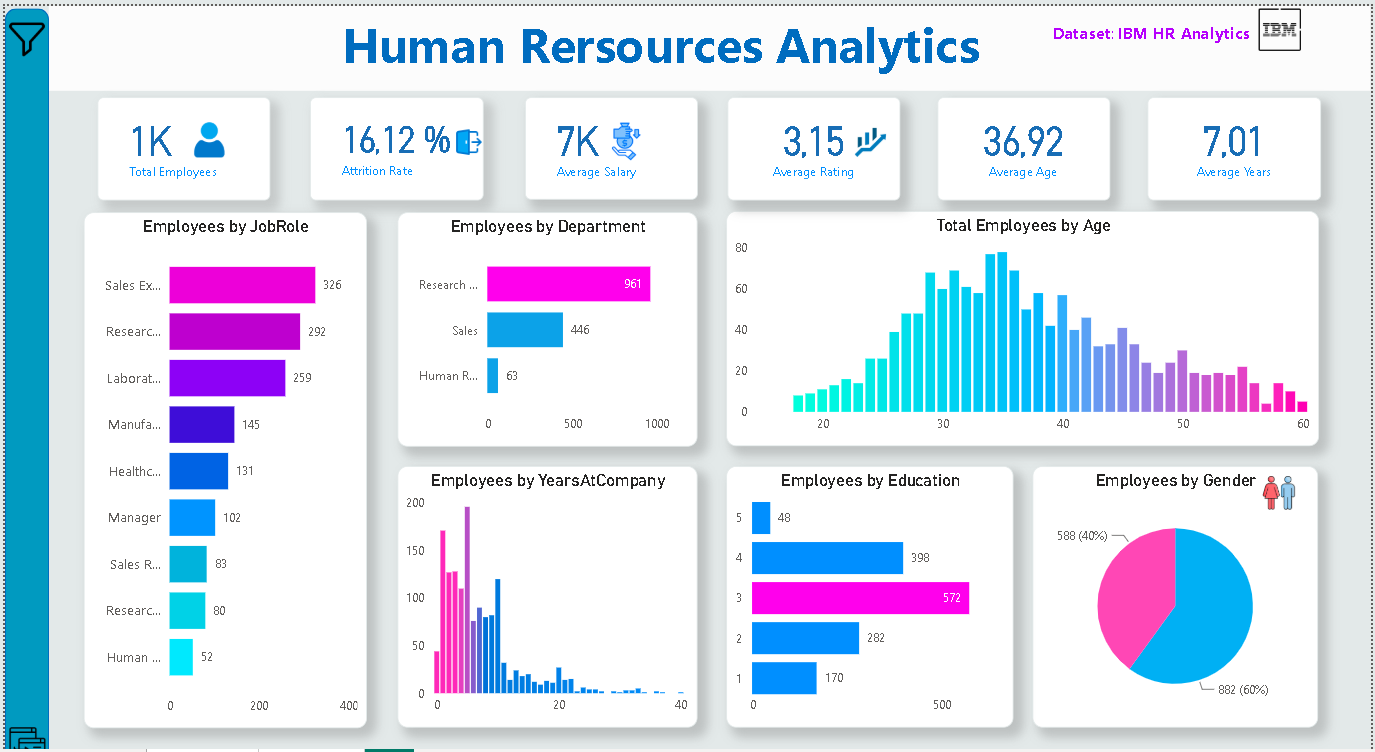

The dashboard page shown, as its layout file describes it:
{"tool":"powerbi","page":{"name":"Home","canvas":[1366,768],"ordinal":0},"visuals":[{"type":"textbox","box":[44,0,1321.8,84.8],"z":0},{"type":"shape","box":[0,2.8,44,764.8],"z":0,"group":"g1"},{"type":"cardVisual","fields":{"Data":["_Meaasures.Total Employees"]},"box":[92.7,91.1,172.4,102.9],"z":1000},{"type":"cardVisual","fields":{"Data":["_Meaasures.Attrition Rate"]},"box":[305.4,91.1,173.7,102.9],"z":2000},{"type":"cardVisual","fields":{"Data":["_Meaasures.Average Monthly Income"]},"box":[519.5,90.9,172.7,102.6],"z":3000},{"type":"cardVisual","fields":{"Data":["_Meaasures.Average Age"]},"box":[932.4,91.1,172.4,102.9],"z":4000},{"type":"cardVisual","fields":{"Data":["_Meaasures.Average Years at Company"]},"box":[1142,91.1,173.7,102.9],"z":5000},{"type":"clusteredBarChart","title":"Employees by Departement","fields":{"Category":["HR.Department"],"Y":["_Meaasures.Total Employees"]},"box":[392.9,205.7,300,234.3],"z":6000},{"type":"pieChart","title":"Gender Distrbution","fields":{"Category":["HR.Gender"],"Y":["_Meaasures.Total Employees"]},"box":[1027.1,460,285.7,261.4],"z":7000},{"type":"clusteredBarChart","title":"Employees by Education Level","fields":{"Y":["_Meaasures.Total Employees"],"Category":["HR.Education"]},"box":[721.4,460,287.1,261.4],"z":8000},{"type":"clusteredBarChart","title":"Employees by JobRole","fields":{"Category":["HR.JobRole"],"Y":["_Meaasures.Total Employees"]},"box":[78.6,205.7,282.9,515.7],"z":9000},{"type":"clusteredColumnChart","title":"Years of Service Distribution","fields":{"Y":["_Meaasures.Total Employees"],"Category":["HR.YearsAtCompany"]},"box":[392.9,460,300,261.4],"z":10000},{"type":"clusteredColumnChart","title":"Workforce Distribution by Age","fields":{"Y":["_Meaasures.Total Employees"],"Category":["HR.Age"]},"box":[720.9,204.9,592.5,235.1],"z":11000},{"type":"group","id":"g1","title":"slicer off","box":[0,2.8,44,764.8],"z":13000},{"type":"cardVisual","fields":{"Data":["_Meaasures.Average Performance Rating"]},"box":[722.8,91.1,172.4,102.9],"z":14000},{"type":"image","box":[179,116,51,35],"z":15000},{"type":"image","box":[1253.2,470.1,40.3,33.8],"z":16000},{"type":"image","box":[437.7,122.1,53.2,27.3],"z":17000},{"type":"image","box":[602.3,115,37.7,40.9],"z":18000},{"type":"image","box":[843.6,118.2,42.7,35],"z":19000},{"type":"image","box":[1,721,43,36],"z":20000},{"type":"textbox","box":[1042.5,10,323.8,65],"z":21000},{"type":"image","box":[0,10.8,44.6,42.3],"z":22000},{"type":"image","box":[1228.8,2.5,92.5,42.5],"z":23000}]}

Visuals, with their boxes on the page's 1366x768 design canvas (x1, y1, x2, y2). These are canvas units, not pixel positions in the 1375x752 screenshot, which may show the page scaled, cropped or inside an application window:
textbox: (left=44, top=0, right=1366, bottom=85)
shape: (left=0, top=3, right=44, bottom=768)
cardVisual - _Meaasures.Total Employees: (left=93, top=91, right=265, bottom=194)
cardVisual - _Meaasures.Attrition Rate: (left=305, top=91, right=479, bottom=194)
cardVisual - _Meaasures.Average Monthly Income: (left=520, top=91, right=692, bottom=194)
cardVisual - _Meaasures.Average Age: (left=932, top=91, right=1105, bottom=194)
cardVisual - _Meaasures.Average Years at Company: (left=1142, top=91, right=1316, bottom=194)
"Employees by Departement" clusteredBarChart: (left=393, top=206, right=693, bottom=440)
"Gender Distrbution" pieChart: (left=1027, top=460, right=1313, bottom=721)
"Employees by Education Level" clusteredBarChart: (left=721, top=460, right=1008, bottom=721)
"Employees by JobRole" clusteredBarChart: (left=79, top=206, right=362, bottom=721)
"Years of Service Distribution" clusteredColumnChart: (left=393, top=460, right=693, bottom=721)
"Workforce Distribution by Age" clusteredColumnChart: (left=721, top=205, right=1313, bottom=440)
"slicer off" group: (left=0, top=3, right=44, bottom=768)
cardVisual - _Meaasures.Average Performance Rating: (left=723, top=91, right=895, bottom=194)
image: (left=179, top=116, right=230, bottom=151)
image: (left=1253, top=470, right=1294, bottom=504)
image: (left=438, top=122, right=491, bottom=149)
image: (left=602, top=115, right=640, bottom=156)
image: (left=844, top=118, right=886, bottom=153)
image: (left=1, top=721, right=44, bottom=757)
textbox: (left=1042, top=10, right=1366, bottom=75)
image: (left=0, top=11, right=45, bottom=53)
image: (left=1229, top=2, right=1321, bottom=45)
